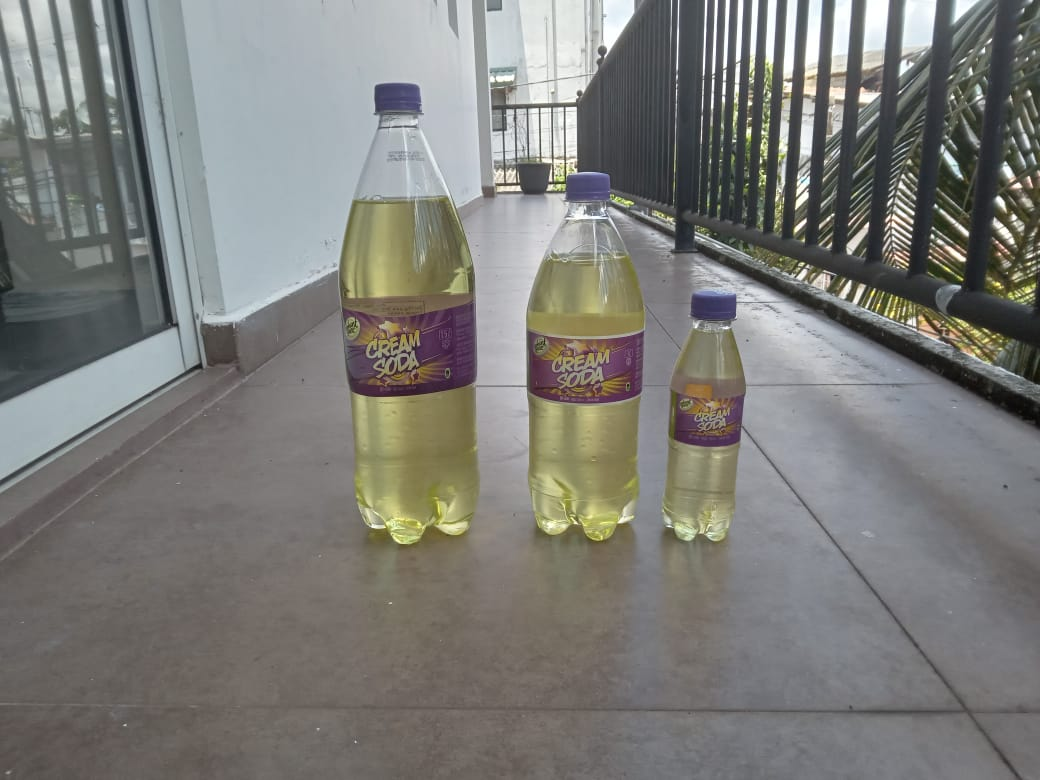L: (338, 82, 481, 545)
M: (527, 173, 646, 540)
Xs: (661, 290, 744, 543)
